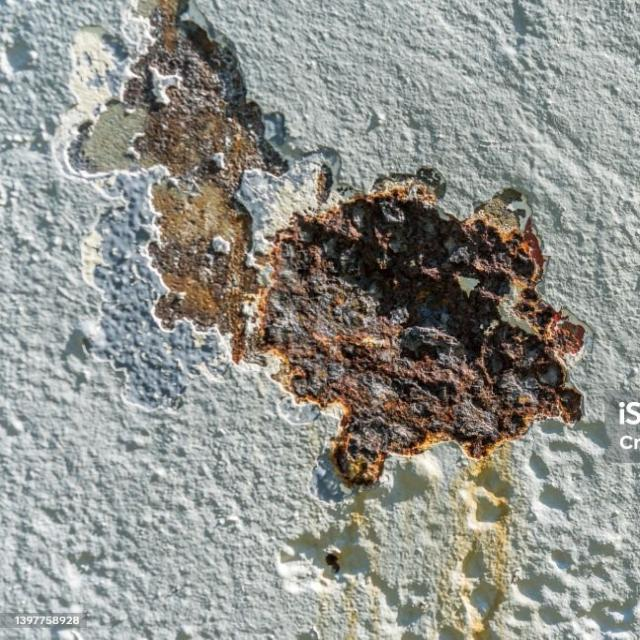Pitting Corrosion: (261, 176, 583, 483)
